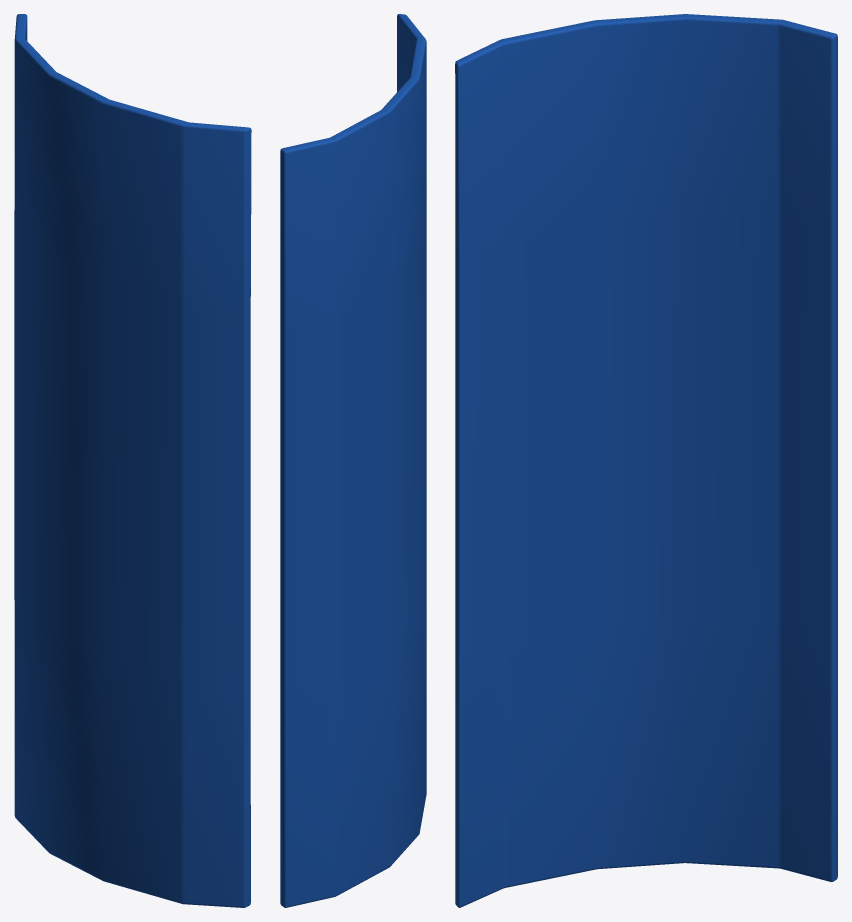
File: DoorCapsule.fbx
3 renders of one model, left to right at view 1: azimuth 30°, elevation 25°; view 2: azimuth 150°, elevation 25°; view 3: azimuth 270°, elevation 25°, orthographic. The views are drawn at different scales.
Parts seen in each view (by area): view 1: DoorSocle_Lp001; view 2: DoorSocle_Lp001; view 3: DoorSocle_Lp001.
Boxes of the visible parts, x1,y1,x2,y2 form: DoorSocle_Lp001: (14, 14, 251, 907); DoorSocle_Lp001: (280, 14, 426, 907); DoorSocle_Lp001: (455, 14, 837, 907).
Size of the model in its own units: 4.16 by 31.72 by 13.01.
